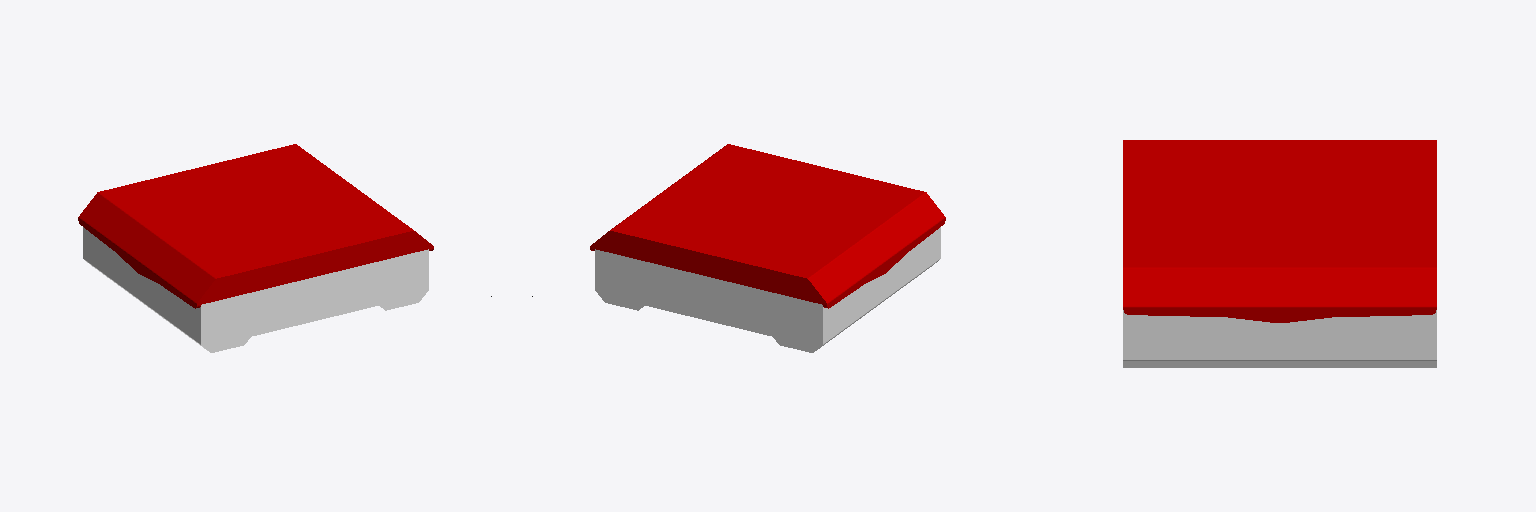
robot.urdf — panther:
<?xml version="1.0" ?>
<!-- =================================================================================== -->
<!-- |    This document was autogenerated by xacro from /ros_ws/src/panther_description/urdf/panther.urdf.xacro | -->
<!-- |    EDITING THIS FILE BY HAND IS NOT RECOMMENDED                                 | -->
<!-- =================================================================================== -->
<robot name="panther">
  <link name="base_link"/>
  <link name="chassis_link">
    <visual>
      <geometry>
        <mesh filename="package://panther_description/meshes/body_bottom.stl" scale="0.001 0.001 0.001"/>
      </geometry>
      <origin rpy=" 1.5707963267948966 0 1.5707963267948966" xyz="0 0 0"/>
      <material name="base_color">
        <color rgba="1.0 1.0 1.0 1.0"/>
      </material>
    </visual>
    <collision>
      <geometry>
        <mesh filename="package://panther_description/meshes/body_bottom.stl" scale="0.001 0.001 0.001"/>
      </geometry>
      <origin rpy=" 1.5707963267948966 0 1.5707963267948966" xyz="0 0 0"/>
    </collision>
    <inertial>
      <mass value="20"/>
      <inertia ixx="9.165e-05" ixy="5.98e-06" ixz="-1.8e-06" iyy="3.309e-05" iyz="-1.473e-05" izz="8.256e-05"/>
    </inertial>
  </link>
  <link name="cover_link">
    <inertial>
      <mass value="0.0000001"/>
      <inertia ixx="1" ixy="0" ixz="0" iyy="1" iyz="0" izz="1"/>
    </inertial>
    <visual>
      <geometry>
        <mesh filename="package://panther_description/meshes/body_top.stl" scale="0.001 0.001 0.001"/>
      </geometry>
      <origin rpy=" 1.5707963267948966 0 1.5707963267948966" xyz="0 0 0"/>
      <material name="cover_color">
        <color rgba="0.8 0.0 0.0 1.0"/>
      </material>
    </visual>
  </link>
  <joint name="base_link_to_chassis_joint" type="fixed">
    <origin rpy="0 0 0" xyz="0 0 0"/>
    <parent link="base_link"/>
    <child link="chassis_link"/>
  </joint>
  <joint name="chassis_to_cover_joint" type="fixed">
    <origin rpy="0 0 0" xyz="0 0 0"/>
    <parent link="chassis_link"/>
    <child link="cover_link"/>
  </joint>
  <gazebo reference="chassis_link">
    <material>Gazebo/White</material>
  </gazebo>
  <gazebo reference="cover_link">
    <material>Gazebo/Red</material>
  </gazebo>
  <link name="front_left_wheel_link">
    <visual>
      <geometry>
        <mesh filename="package://panther_description/meshes/wheel.stl" scale="0.001 0.001 0.001"/>
      </geometry>
      <origin rpy="0 0 1.5707963267948966" xyz="0 0 0"/>
      <material name="wheel_color">
        <color rgba="0.15 0.15 0.15 1.0"/>
      </material>
    </visual>
    <collision>
      <geometry>
        <mesh filename="package://panther_description/meshes/wheel.stl" scale="0.001 0.001 0.001"/>
      </geometry>
      <origin rpy="0 0 1.5707963267948966" xyz="0 0 0"/>
    </collision>
    <inertial>
      <mass value="0.3"/>
      <inertia ixx="9.165e-05" ixy="5.98e-06" ixz="-1.8e-06" iyy="3.309e-05" iyz="-1.473e-05" izz="8.256e-05"/>
    </inertial>
  </link>
  <joint name="front_left_wheel_joint" type="continuous">
    <parent link="chassis_link"/>
    <child link="front_left_wheel_link"/>
    <origin rpy="0 0 0" xyz="0.38 0.4 0"/>
    <axis xyz="0 1 0"/>
    <limit effort="10" velocity="10"/>
    <dynamics damping="0.0" friction="0.0"/>
  </joint>
  <transmission name="front_left_wheel_transmission" type="SimpleTransmission">
    <type>transmission_interface/SimpleTransmission</type>
    <joint name="front_left_wheel_joint">
      <hardwareInterface>hardware_interface/EffortJointInterface</hardwareInterface>
    </joint>
    <actuator name="front_left_wheel_actuator">
      <mechanicalReduction>1</mechanicalReduction>
      <hardwareInterface>hardware_interface/EffortJointInterface</hardwareInterface>
    </actuator>
  </transmission>
  <gazebo reference="front_left_wheel_link">
    <mu1 value="0.93"/>
    <mu2 value="0.2"/>
    <kp value="10000000.0"/>
    <kd value="1.0"/>
    <fdir1 value="1 0 0"/>
    <material>Gazebo/Grey</material>
  </gazebo>
  <gazebo reference="front_left_wheel_joint">
    <provideFeedback>true</provideFeedback>
  </gazebo>
  <link name="front_right_wheel_link">
    <visual>
      <geometry>
        <mesh filename="package://panther_description/meshes/wheel.stl" scale="0.001 0.001 0.001"/>
      </geometry>
      <origin rpy="0 0 1.5707963267948966" xyz="0 0 0"/>
      <material name="wheel_color">
        <color rgba="0.15 0.15 0.15 1.0"/>
      </material>
    </visual>
    <collision>
      <geometry>
        <mesh filename="package://panther_description/meshes/wheel.stl" scale="0.001 0.001 0.001"/>
      </geometry>
      <origin rpy="0 0 1.5707963267948966" xyz="0 0 0"/>
    </collision>
    <inertial>
      <mass value="0.3"/>
      <inertia ixx="9.165e-05" ixy="5.98e-06" ixz="-1.8e-06" iyy="3.309e-05" iyz="-1.473e-05" izz="8.256e-05"/>
    </inertial>
  </link>
  <joint name="front_right_wheel_joint" type="continuous">
    <parent link="chassis_link"/>
    <child link="front_right_wheel_link"/>
    <origin rpy="0 0 0" xyz="0.38 -0.4 0"/>
    <axis xyz="0 1 0"/>
    <limit effort="10" velocity="10"/>
    <dynamics damping="0.0" friction="0.0"/>
  </joint>
  <transmission name="front_right_wheel_transmission" type="SimpleTransmission">
    <type>transmission_interface/SimpleTransmission</type>
    <joint name="front_right_wheel_joint">
      <hardwareInterface>hardware_interface/EffortJointInterface</hardwareInterface>
    </joint>
    <actuator name="front_right_wheel_actuator">
      <mechanicalReduction>1</mechanicalReduction>
      <hardwareInterface>hardware_interface/EffortJointInterface</hardwareInterface>
    </actuator>
  </transmission>
  <gazebo reference="front_right_wheel_link">
    <mu1 value="0.93"/>
    <mu2 value="0.2"/>
    <kp value="10000000.0"/>
    <kd value="1.0"/>
    <fdir1 value="1 0 0"/>
    <material>Gazebo/Grey</material>
  </gazebo>
  <gazebo reference="front_right_wheel_joint">
    <provideFeedback>true</provideFeedback>
  </gazebo>
  <link name="rear_left_wheel_link">
    <visual>
      <geometry>
        <mesh filename="package://panther_description/meshes/wheel.stl" scale="0.001 0.001 0.001"/>
      </geometry>
      <origin rpy="0 0 1.5707963267948966" xyz="0 0 0"/>
      <material name="wheel_color">
        <color rgba="0.15 0.15 0.15 1.0"/>
      </material>
    </visual>
    <collision>
      <geometry>
        <mesh filename="package://panther_description/meshes/wheel.stl" scale="0.001 0.001 0.001"/>
      </geometry>
      <origin rpy="0 0 1.5707963267948966" xyz="0 0 0"/>
    </collision>
    <inertial>
      <mass value="0.3"/>
      <inertia ixx="9.165e-05" ixy="5.98e-06" ixz="-1.8e-06" iyy="3.309e-05" iyz="-1.473e-05" izz="8.256e-05"/>
    </inertial>
  </link>
  <joint name="rear_left_wheel_joint" type="continuous">
    <parent link="chassis_link"/>
    <child link="rear_left_wheel_link"/>
    <origin rpy="0 0 0" xyz="-0.38 0.4 0"/>
    <axis xyz="0 1 0"/>
    <limit effort="10" velocity="10"/>
    <dynamics damping="0.0" friction="0.0"/>
  </joint>
  <transmission name="rear_left_wheel_transmission" type="SimpleTransmission">
    <type>transmission_interface/SimpleTransmission</type>
    <joint name="rear_left_wheel_joint">
      <hardwareInterface>hardware_interface/EffortJointInterface</hardwareInterface>
    </joint>
    <actuator name="rear_left_wheel_actuator">
      <mechanicalReduction>1</mechanicalReduction>
      <hardwareInterface>hardware_interface/EffortJointInterface</hardwareInterface>
    </actuator>
  </transmission>
  <gazebo reference="rear_left_wheel_link">
    <mu1 value="0.93"/>
    <mu2 value="0.2"/>
    <kp value="10000000.0"/>
    <kd value="1.0"/>
    <fdir1 value="1 0 0"/>
    <material>Gazebo/Grey</material>
  </gazebo>
  <gazebo reference="rear_left_wheel_joint">
    <provideFeedback>true</provideFeedback>
  </gazebo>
  <link name="rear_right_wheel_link">
    <visual>
      <geometry>
        <mesh filename="package://panther_description/meshes/wheel.stl" scale="0.001 0.001 0.001"/>
      </geometry>
      <origin rpy="0 0 1.5707963267948966" xyz="0 0 0"/>
      <material name="wheel_color">
        <color rgba="0.15 0.15 0.15 1.0"/>
      </material>
    </visual>
    <collision>
      <geometry>
        <mesh filename="package://panther_description/meshes/wheel.stl" scale="0.001 0.001 0.001"/>
      </geometry>
      <origin rpy="0 0 1.5707963267948966" xyz="0 0 0"/>
    </collision>
    <inertial>
      <mass value="0.3"/>
      <inertia ixx="9.165e-05" ixy="5.98e-06" ixz="-1.8e-06" iyy="3.309e-05" iyz="-1.473e-05" izz="8.256e-05"/>
    </inertial>
  </link>
  <joint name="rear_right_wheel_joint" type="continuous">
    <parent link="chassis_link"/>
    <child link="rear_right_wheel_link"/>
    <origin rpy="0 0 0" xyz="-0.38 -0.4 0"/>
    <axis xyz="0 1 0"/>
    <limit effort="10" velocity="10"/>
    <dynamics damping="0.0" friction="0.0"/>
  </joint>
  <transmission name="rear_right_wheel_transmission" type="SimpleTransmission">
    <type>transmission_interface/SimpleTransmission</type>
    <joint name="rear_right_wheel_joint">
      <hardwareInterface>hardware_interface/EffortJointInterface</hardwareInterface>
    </joint>
    <actuator name="rear_right_wheel_actuator">
      <mechanicalReduction>1</mechanicalReduction>
      <hardwareInterface>hardware_interface/EffortJointInterface</hardwareInterface>
    </actuator>
  </transmission>
  <gazebo reference="rear_right_wheel_link">
    <mu1 value="0.93"/>
    <mu2 value="0.2"/>
    <kp value="10000000.0"/>
    <kd value="1.0"/>
    <fdir1 value="1 0 0"/>
    <material>Gazebo/Grey</material>
  </gazebo>
  <gazebo reference="rear_right_wheel_joint">
    <provideFeedback>true</provideFeedback>
  </gazebo>
  <gazebo>
    <plugin filename="libgazebo_ros_skid_steer_drive.so" name="skid_steer_drive_controller">
      <updateRate>10.0</updateRate>
      <robotBaseFrame>base_link</robotBaseFrame>
      <wheelSeparation>0.8</wheelSeparation>
      <wheelDiameter>0.2</wheelDiameter>
      <torque>10</torque>
      <leftFrontJoint>front_left_wheel_joint</leftFrontJoint>
      <rightFrontJoint>front_right_wheel_joint</rightFrontJoint>
      <leftRearJoint>rear_left_wheel_joint</leftRearJoint>
      <rightRearJoint>rear_right_wheel_joint</rightRearJoint>
      <topicName>cmd_vel</topicName>
      <commandTopic>cmd_vel</commandTopic>
      <broadcastTF>true</broadcastTF>
      <odometryTopic>odom</odometryTopic>
      <odometryFrame>odom</odometryFrame>
      <covariance_x>0.000100</covariance_x>
      <covariance_y>0.000100</covariance_y>
      <covariance_yaw>0.010000</covariance_yaw>
    </plugin>
  </gazebo>
  <gazebo>
    <plugin filename="libgazebo_ros_control.so" name="gazebo_ros_control">
      <robotNamespace>/</robotNamespace>
      <legacyModeNS>true</legacyModeNS>
    </plugin>
  </gazebo>
</robot>

--- What the picture shows (computed from the rendered views, not written in the file) ---
3 views of the same robot in one strip: view 1: azimuth 30°, elevation 25°; view 2: azimuth 150°, elevation 25°; view 3: azimuth 270°, elevation 25° (orthographic).
Robot: panther — 7 links, 6 joints (4 continuous, 2 fixed); root link base_link; default pose: every joint at zero.
Links seen in each view (by area): view 1: cover_link, chassis_link; view 2: cover_link, chassis_link; view 3: cover_link, chassis_link.
Boxes of the visible links, x1,y1,x2,y2 form: cover_link: [78, 144, 433, 308]; chassis_link: [83, 227, 428, 352]; cover_link: [590, 144, 945, 308]; chassis_link: [595, 227, 940, 352]; cover_link: [1123, 140, 1436, 322]; chassis_link: [1123, 310, 1436, 367].
Size in the robot's own frame: 0.7604 by 0.8001 by 0.1821 metres.
6 mesh visuals loaded from 3 distinct referenced files (3 binary STL).